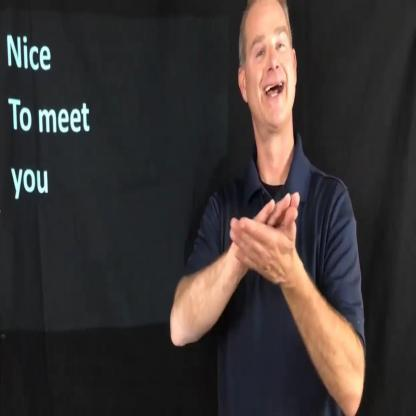NiceToMeetYou: (228, 177, 302, 295)
